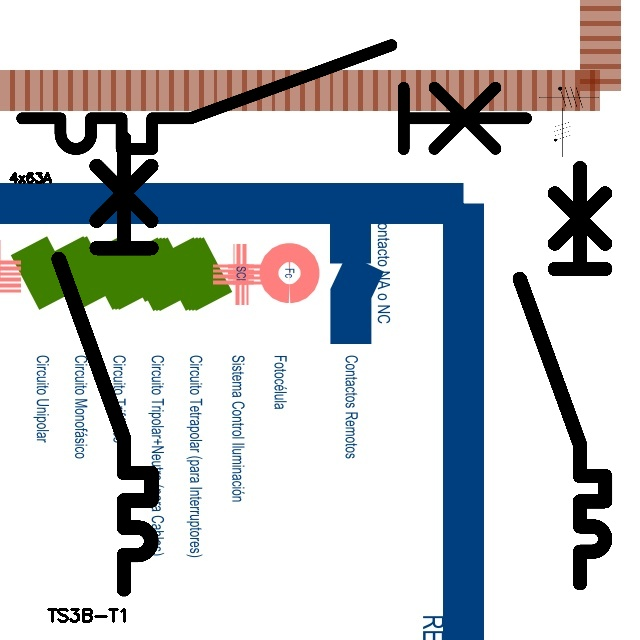interruptor_termomagnetico: (9, 32, 539, 162), (47, 127, 163, 601), (509, 157, 616, 593)
